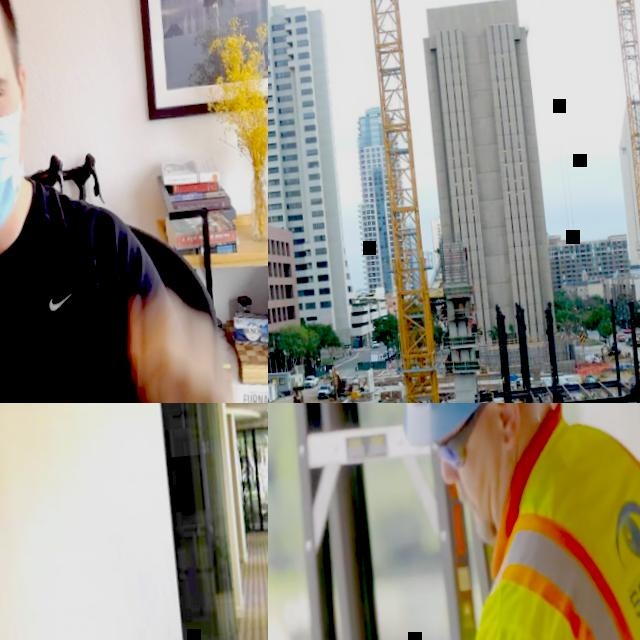Mask: (0, 94, 37, 243)
NO-Mask: (459, 447, 522, 546)
NO-Safety Vest: (0, 176, 151, 403)
Person: (0, 0, 268, 403), (370, 403, 640, 640)
Safety Vest: (442, 408, 640, 640)
machinery: (328, 361, 353, 401), (291, 385, 305, 403), (617, 332, 626, 342)
vehicle: (316, 383, 334, 399), (303, 374, 320, 387)
